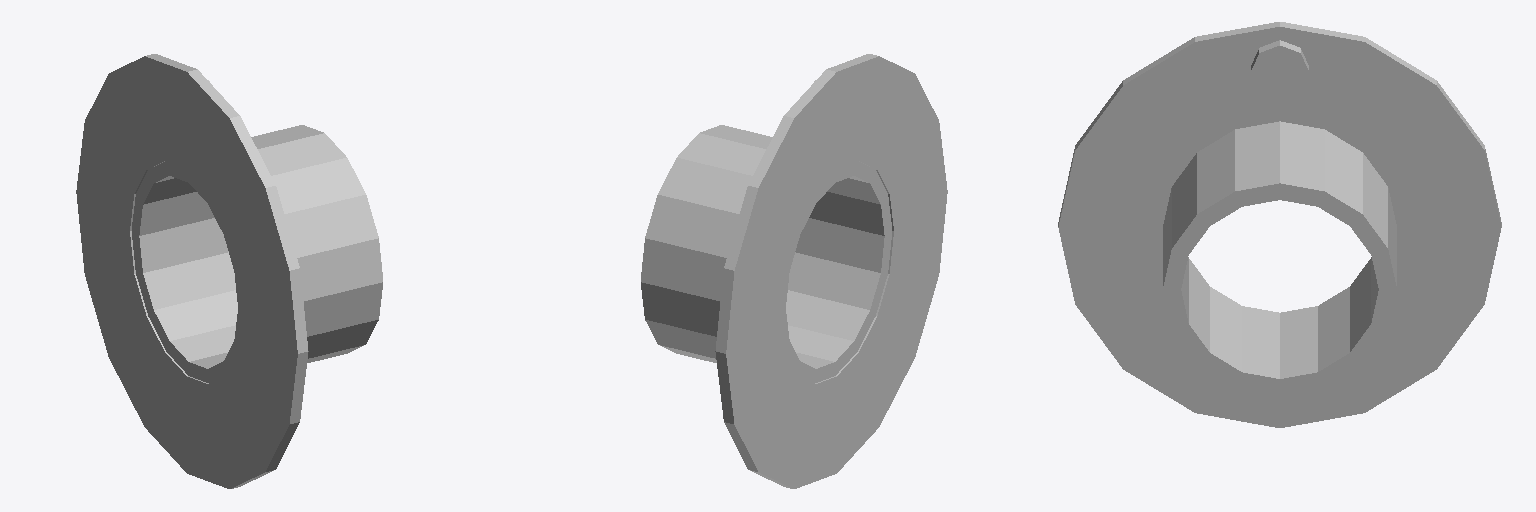
Rendered from wardrobe_rail_cap_start.obj.
3 views of the same model, side by side, from view 1: azimuth 30°, elevation 25°; view 2: azimuth 150°, elevation 25°; view 3: azimuth 270°, elevation 25° (orthographic).
Visible parts, largest first — view 1: Zylinder.2; view 2: Zylinder.2; view 3: Zylinder.2.
Boxes of the visible parts, x1=… form: Zylinder.2: x1=76, y1=54, x2=382, y2=488; Zylinder.2: x1=641, y1=54, x2=947, y2=488; Zylinder.2: x1=1058, y1=22, x2=1501, y2=427.
Bounding box in the file's own units: 1.69 × 4.71 × 4.71.